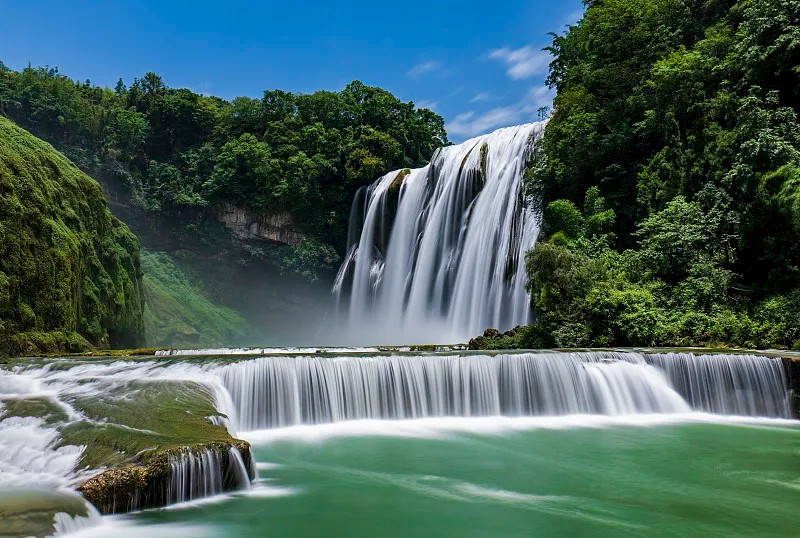Huangguoshu: (333, 120, 543, 346)
